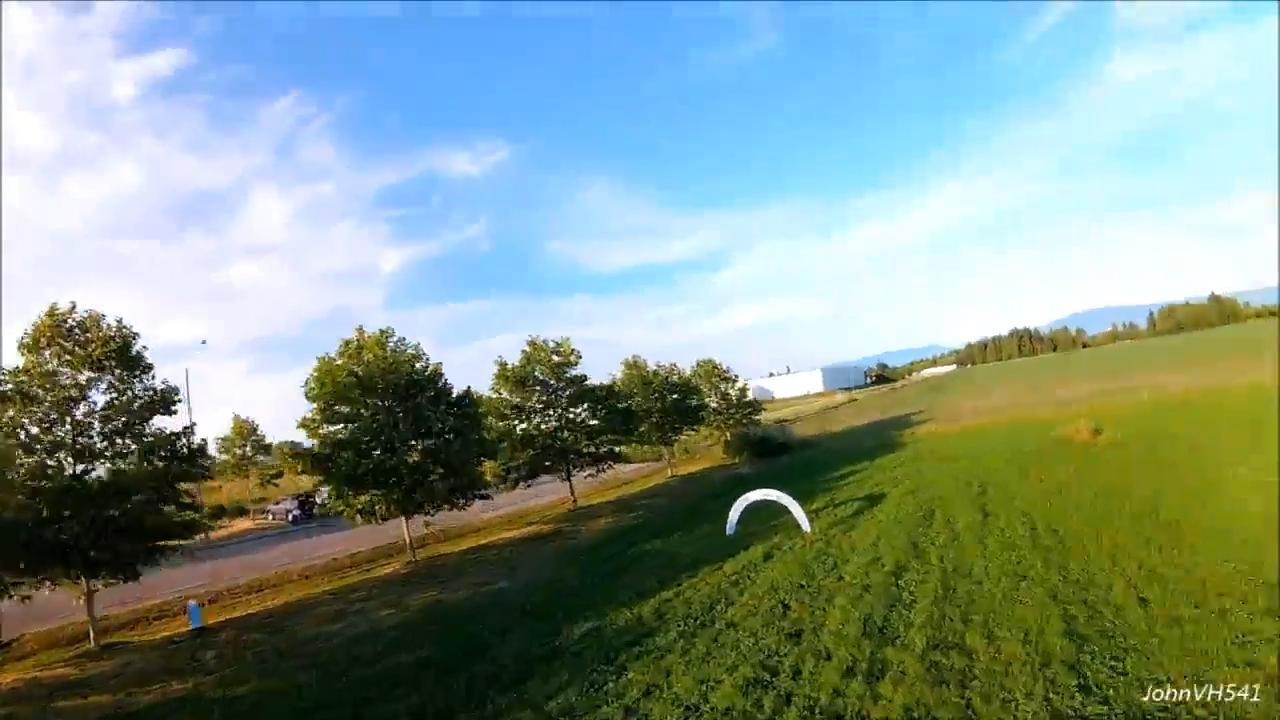gate: (724, 488, 811, 535)
